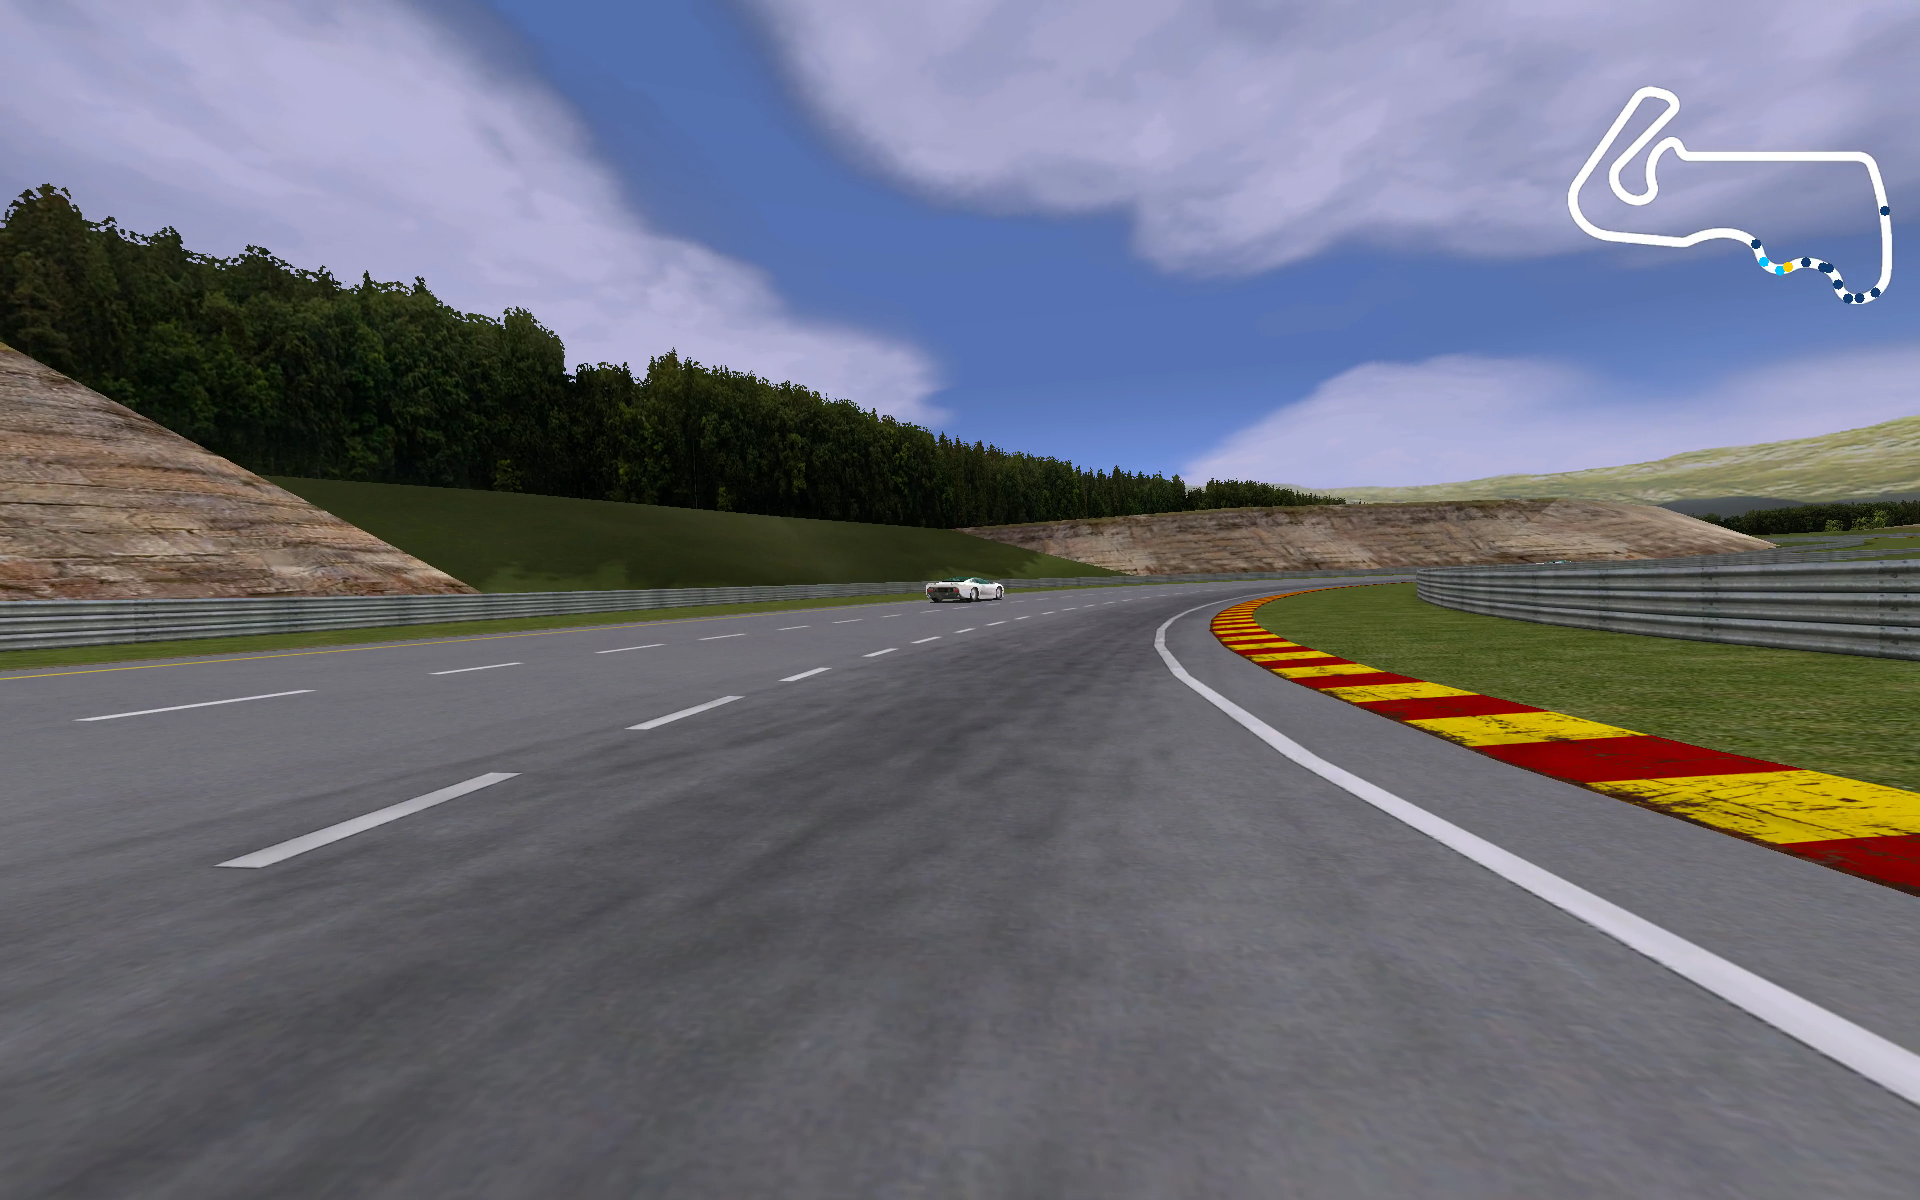car: (921, 571, 1010, 604)
